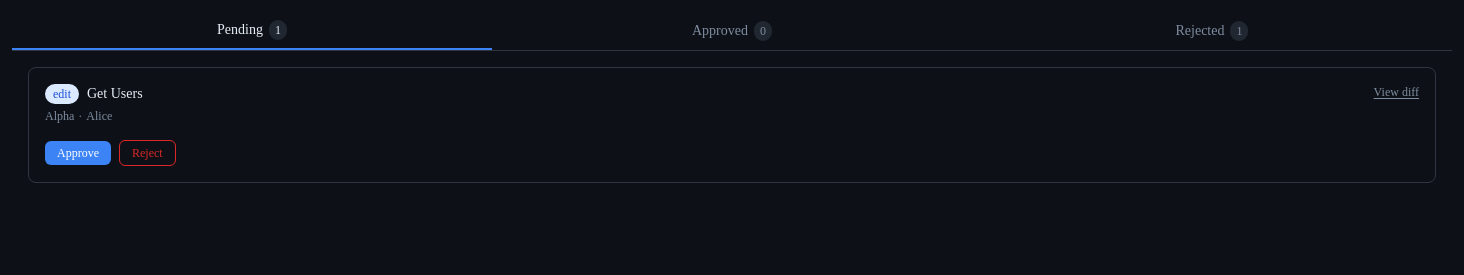
Scenario: SuggestionPanel — empty state › shows "No approved suggestions" on empty approved tab
Step 1. Click the tab "approved 0" → [732, 31], box [492,12,972,50]
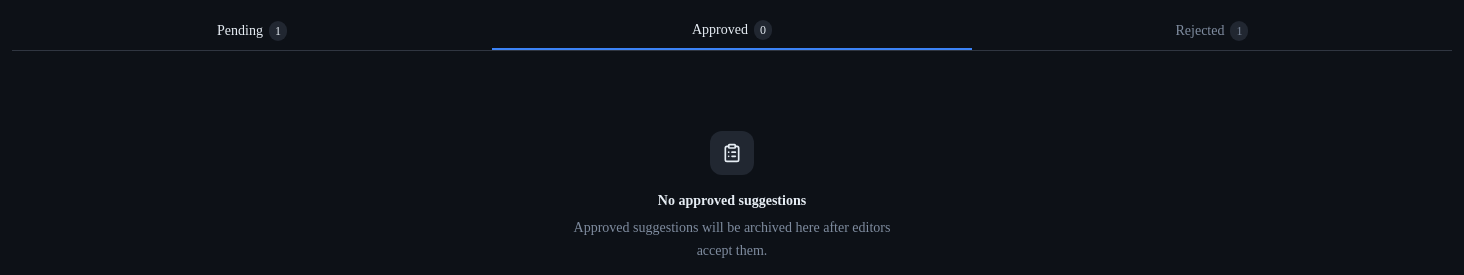
Expected: the heading "No approved suggestions" is shown, [658,191,806,211]
